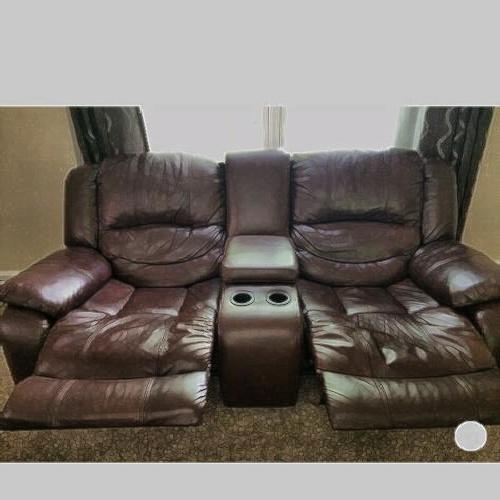sofa: (27, 171, 483, 428)
